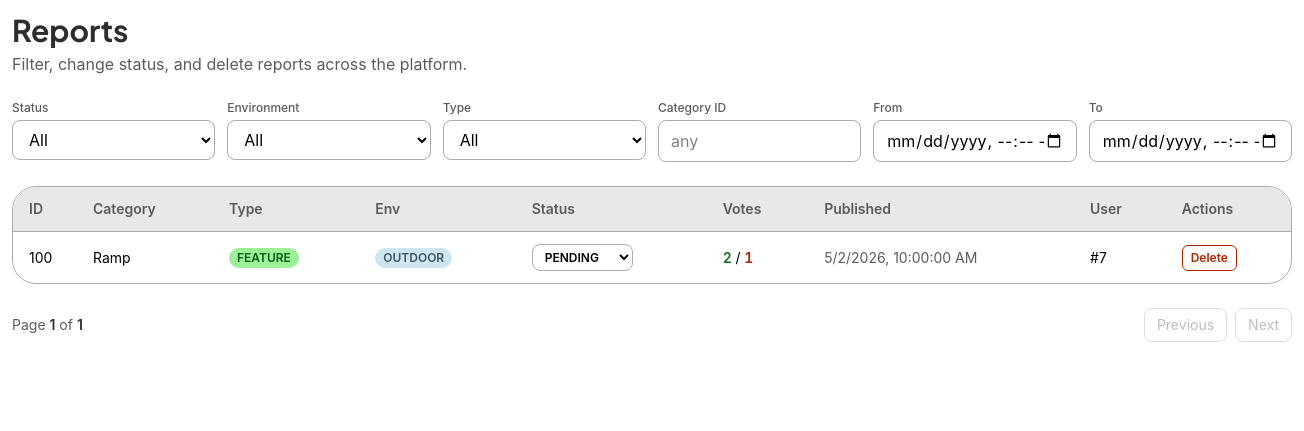
Scenario: AdminReportsPage › shows status mutation errors
Check: the text "Ramp" is shown, box [77,232,213,283]
Select "VERIFIED" in the dropdown showing "PENDING" at [582, 258], box [532,244,633,271]
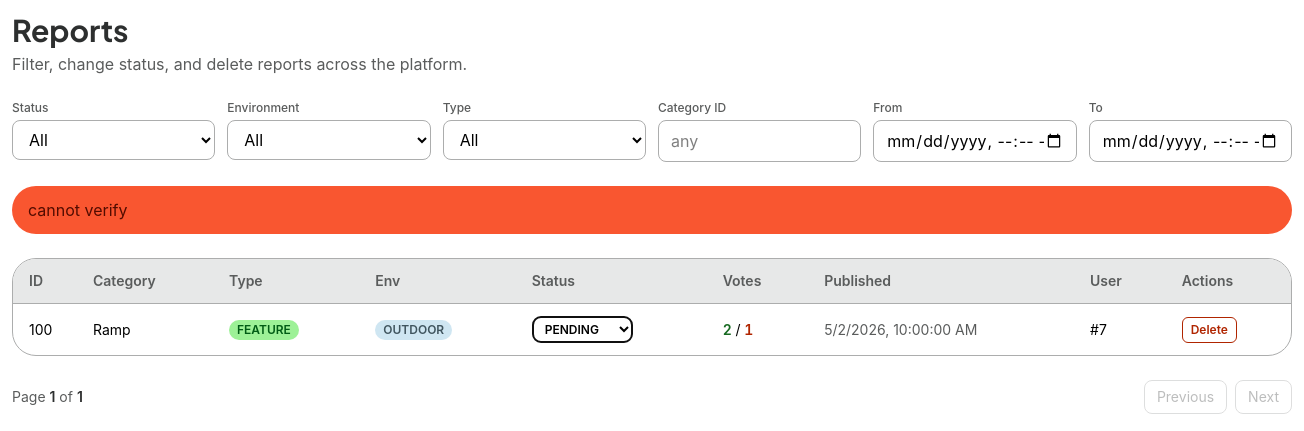
Check: the text "cannot verify" is shown, box [12,186,1292,234]
